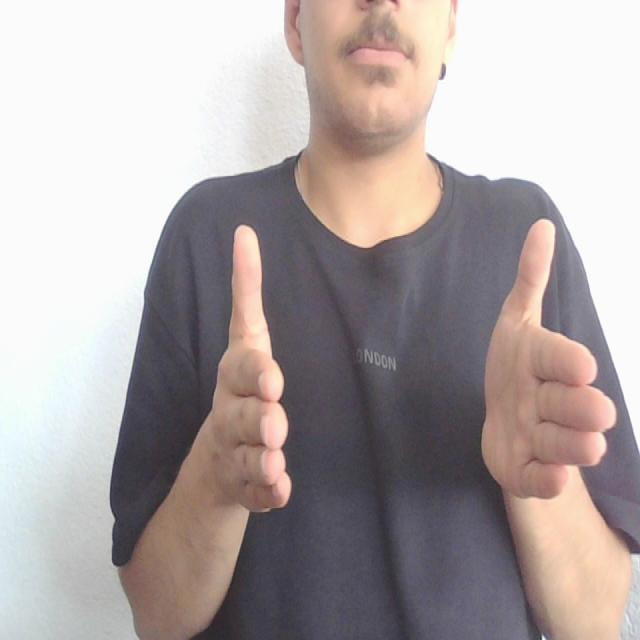Nasil: (197, 187, 624, 553)
